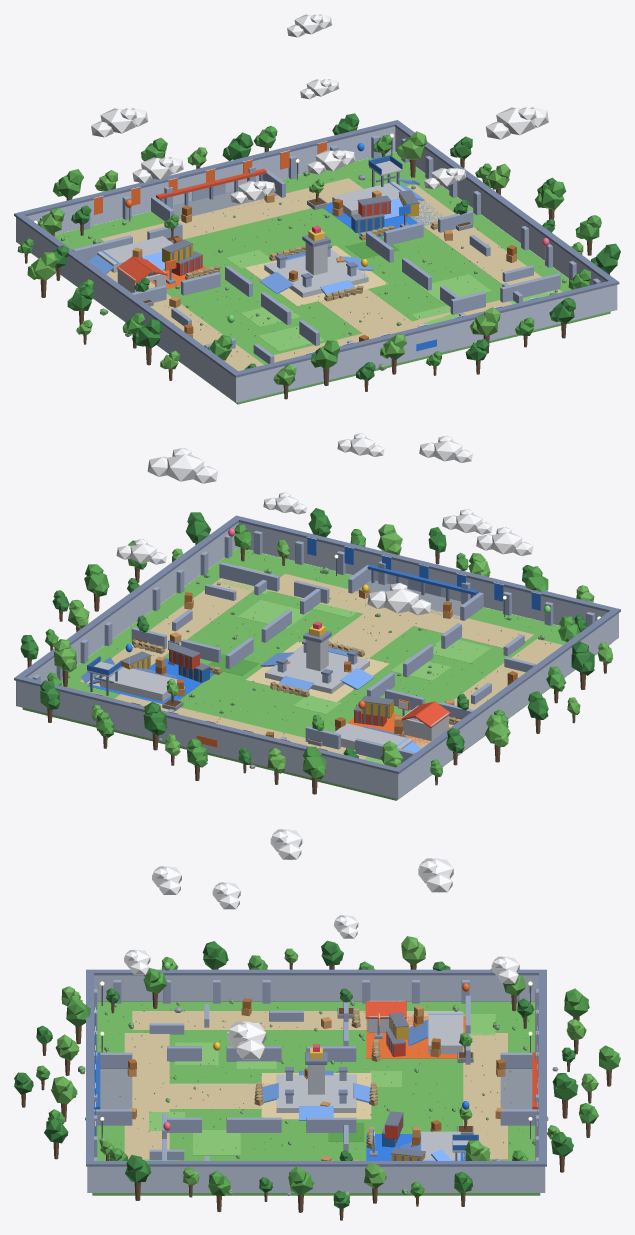
Rendered from playground.glb.
The picture shows the model from 3 angles, top to bottom: view 1: azimuth 30°, elevation 25°; view 2: azimuth 150°, elevation 25°; view 3: azimuth 270°, elevation 25°; orthographic projection. The views are drawn at different scales.
Parts seen in each view (by area): view 1: playground_box000, playground_Map_ccd8ee, playground_Map_e3d2a8_flat, playground_Map_a7b6d6, playground_Map_8493b5_flat, playground_Map_Cloud, playground_Map_Leaf_#57a851, playground_Map_Leaf_#3f8c46, playground_Map_c9cfd9, playground_Map_Leaf_#6cb75a, playground_Map_93d97f_flat, playground_Map_7fb2ff (+14 smaller); view 2: playground_box000, playground_Map_ccd8ee, playground_Map_a7b6d6, playground_Map_e3d2a8_flat, playground_Map_8493b5_flat, playground_Map_Cloud, playground_Map_c9cfd9, playground_Map_Leaf_#3f8c46, playground_Map_Leaf_#57a851, playground_Map_Leaf_#6cb75a, playground_Map_93d97f_flat, playground_Map_Bark (+15 smaller); view 3: playground_box000, playground_Map_ccd8ee, playground_Map_e3d2a8_flat, playground_Map_a7b6d6, playground_Map_8493b5_flat, playground_Map_Cloud, playground_Map_c9cfd9, playground_Map_Leaf_#3f8c46, playground_Map_Leaf_#57a851, playground_Map_Leaf_#6cb75a, playground_Map_93d97f_flat, playground_Map_9aa3b2_flat (+11 smaller).
Part boxes in pixels (left/top/right/bottom): playground_box000: left=31, top=152, right=610, bottom=404; playground_Map_ccd8ee: left=16, top=126, right=617, bottom=402; playground_Map_e3d2a8_flat: left=100, top=178, right=562, bottom=371; playground_Map_a7b6d6: left=40, top=135, right=600, bottom=363; playground_Map_8493b5_flat: left=14, top=120, right=619, bottom=377; playground_Map_Cloud: left=91, top=14, right=548, bottom=203; playground_Map_Leaf_#57a851: left=17, top=126, right=601, bottom=369; playground_Map_Leaf_#3f8c46: left=51, top=113, right=620, bottom=380; playground_Map_c9cfd9: left=97, top=161, right=405, bottom=297; playground_Map_Leaf_#6cb75a: left=27, top=131, right=583, bottom=385; playground_Map_93d97f_flat: left=226, top=250, right=558, bottom=351; playground_Map_7fb2ff: left=88, top=178, right=424, bottom=294; playground_box000: left=22, top=547, right=611, bottom=800; playground_Map_ccd8ee: left=16, top=522, right=618, bottom=798; playground_Map_a7b6d6: left=32, top=531, right=594, bottom=762; playground_Map_e3d2a8_flat: left=80, top=566, right=562, bottom=759; playground_Map_8493b5_flat: left=14, top=515, right=620, bottom=773; playground_Map_Cloud: left=116, top=433, right=533, bottom=615; playground_Map_c9cfd9: left=87, top=638, right=448, bottom=749; playground_Map_Leaf_#3f8c46: left=20, top=508, right=594, bottom=764; playground_Map_Leaf_#57a851: left=45, top=524, right=580, bottom=779; playground_Map_Leaf_#6cb75a: left=53, top=524, right=612, bottom=773; playground_Map_93d97f_flat: left=221, top=579, right=491, bottom=764; playground_Map_Bark: left=27, top=535, right=607, bottom=794; playground_box000: left=92, top=1001, right=540, bottom=1195; playground_Map_ccd8ee: left=87, top=975, right=545, bottom=1192; playground_Map_e3d2a8_flat: left=124, top=1011, right=507, bottom=1159; playground_Map_a7b6d6: left=94, top=980, right=538, bottom=1160; playground_Map_8493b5_flat: left=86, top=969, right=546, bottom=1166; playground_Map_Cloud: left=124, top=829, right=519, bottom=1059; playground_Map_c9cfd9: left=276, top=1000, right=468, bottom=1159; playground_Map_Leaf_#3f8c46: left=14, top=940, right=578, bottom=1209; playground_Map_Leaf_#57a851: left=36, top=955, right=620, bottom=1197; playground_Map_Leaf_#6cb75a: left=51, top=936, right=598, bottom=1188; playground_Map_93d97f_flat: left=142, top=1014, right=495, bottom=1160; playground_Map_9aa3b2_flat: left=94, top=1069, right=538, bottom=1109.
Size of the model in its own units: 121 by 45.58 by 122.
